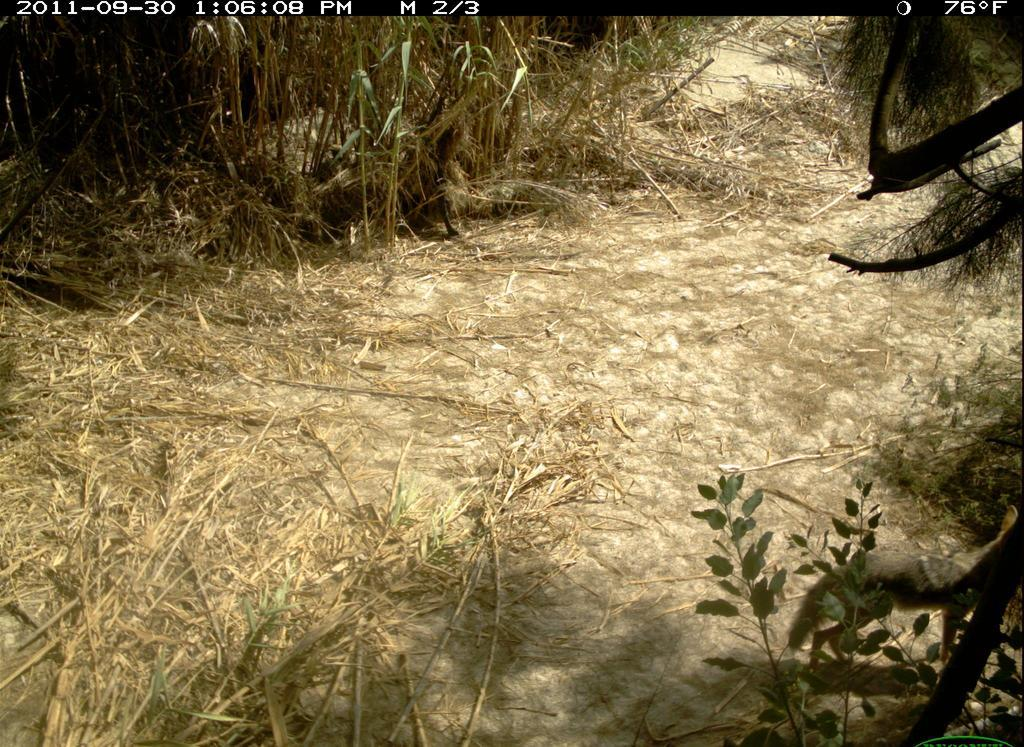coyote: (783, 484, 1023, 674)
